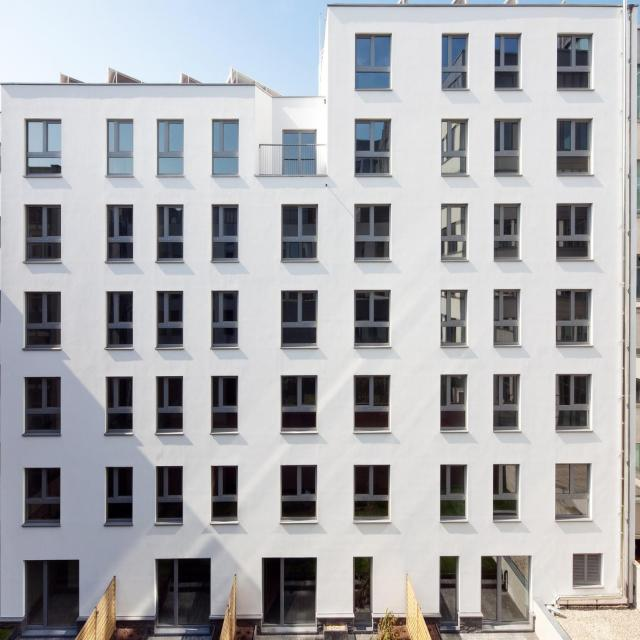door: (158, 556, 217, 625), (263, 554, 321, 624), (29, 555, 82, 619), (480, 556, 530, 622), (440, 556, 463, 623), (354, 556, 370, 620)
railing: (259, 149, 328, 178)
window: (283, 376, 319, 432), (555, 465, 592, 519), (354, 204, 390, 259), (355, 292, 391, 347), (280, 208, 316, 263), (354, 376, 390, 431), (356, 121, 391, 177), (25, 207, 63, 258), (282, 293, 317, 348), (354, 464, 391, 516), (25, 295, 62, 345), (23, 383, 60, 433), (357, 37, 392, 88), (558, 120, 590, 175), (559, 292, 591, 347), (280, 467, 315, 517), (560, 203, 591, 258), (557, 374, 588, 429), (27, 124, 61, 174), (25, 471, 59, 520), (559, 37, 590, 89), (212, 207, 240, 264), (211, 377, 239, 434), (212, 295, 239, 352), (109, 121, 135, 179), (213, 121, 239, 178), (496, 210, 522, 265), (495, 292, 521, 347), (106, 469, 133, 520), (439, 122, 465, 174), (442, 36, 467, 90), (495, 120, 520, 174), (495, 376, 520, 430), (156, 294, 182, 345), (211, 467, 237, 518), (442, 208, 467, 260), (442, 294, 467, 346), (444, 379, 469, 431), (496, 35, 520, 89), (159, 211, 184, 261), (157, 378, 182, 428), (108, 211, 133, 260), (108, 295, 132, 345), (108, 379, 132, 429), (160, 124, 183, 174), (159, 469, 181, 519), (442, 470, 465, 514), (494, 469, 516, 513), (572, 556, 600, 584), (283, 134, 317, 146)
